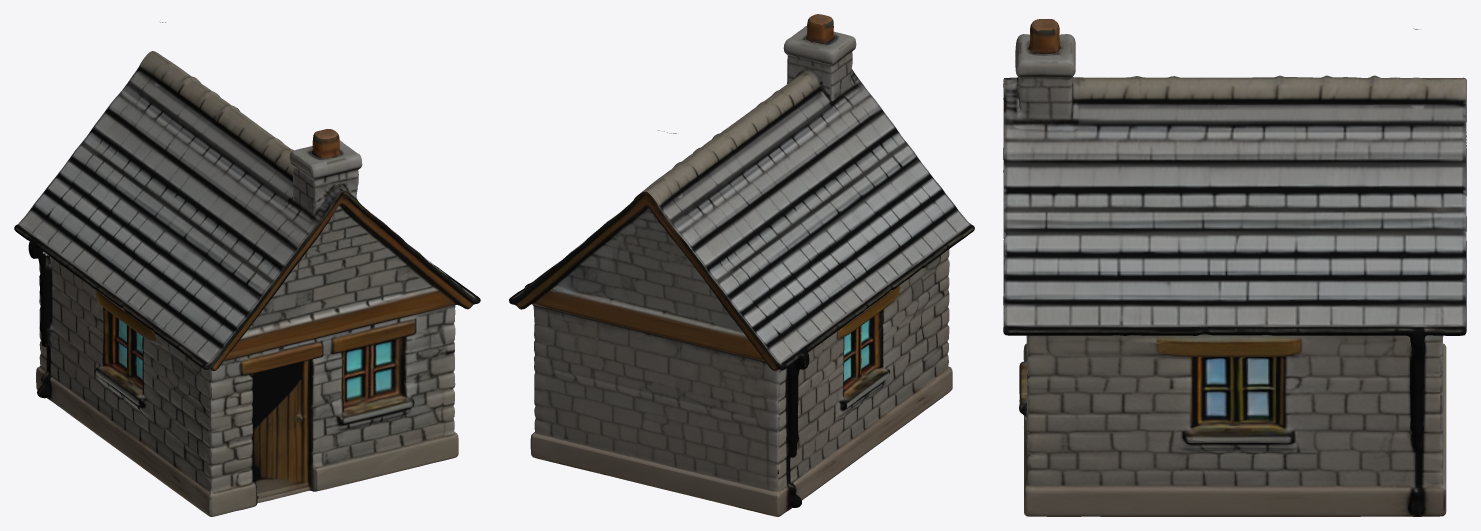
The model's file is house-stone-cottage.glb.
3 views of the same model, side by side, from view 1: azimuth 30°, elevation 25°; view 2: azimuth 150°, elevation 25°; view 3: azimuth 270°, elevation 25° (orthographic). The views are drawn at different scales.
Visible parts, largest first — view 1: tmpnf1fs0qd.ply; view 2: tmpnf1fs0qd.ply; view 3: tmpnf1fs0qd.ply.
Boxes of the visible parts, x1=… form: tmpnf1fs0qd.ply: x1=14, y1=22, x2=480, y2=516; tmpnf1fs0qd.ply: x1=509, y1=14, x2=974, y2=516; tmpnf1fs0qd.ply: x1=1003, y1=19, x2=1466, y2=516.
Bounding box in the file's own units: 1.67 × 1.97 × 1.96.
1 material, 1 textured.
